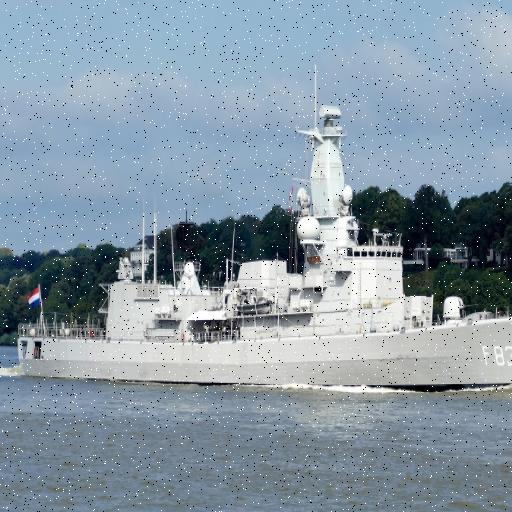Fragata: (13, 96, 512, 400)
